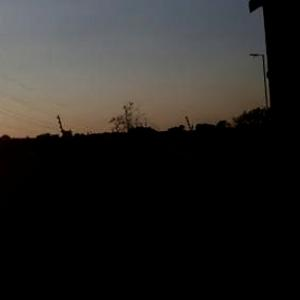follow: (119, 120, 194, 299)
